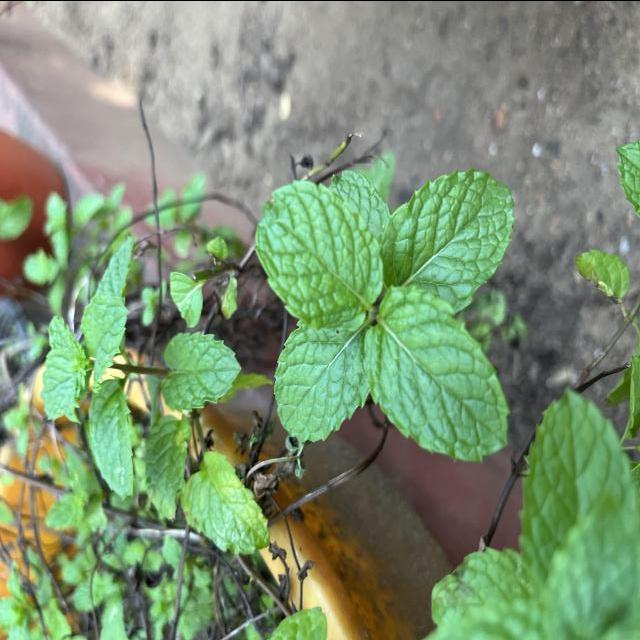Mentha spicata: (362, 282, 512, 463), (253, 177, 385, 333), (385, 166, 518, 314), (273, 318, 370, 444)
